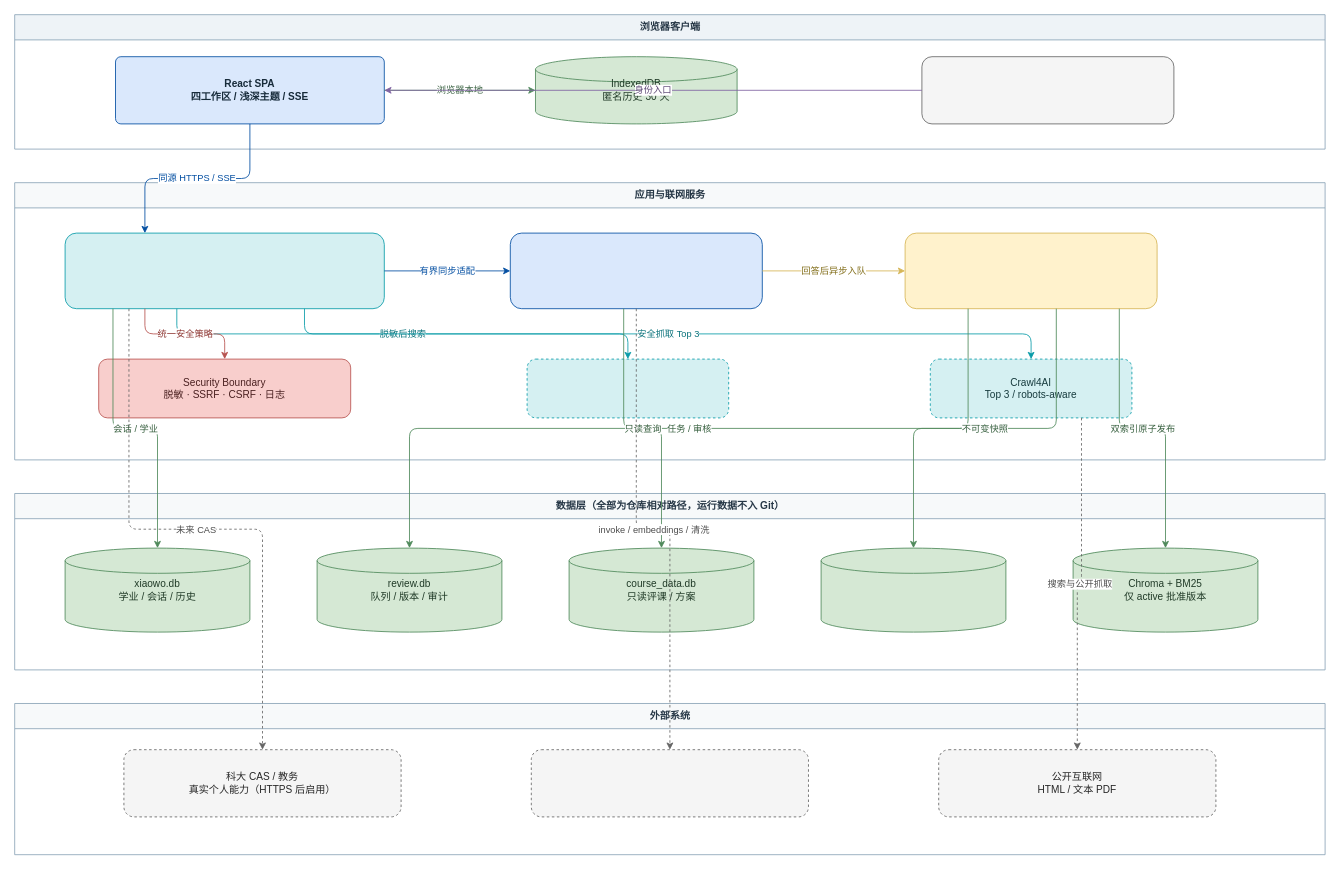
Some shapes in this 1340 by 869 pixel diagram are drawn without their labels. The shapes that lost their labels are listed below. From the top down, each one's centre as x and y in pixels, then its label:
At [1047,90]: "用户 / 审核者 anonymous · demo · CAS".
At [224,270]: "FastAPI 模块化单体 Auth · Chat/SSE · Academic · Evidence · Review".
At [635,270]: "现有小蜗核心 LangGraph QA · 28 工具 ServiceContainer".
At [1030,270]: "Ingestion Worker 清洗 · 去重 · 版本 · 发布".
At [627,388]: "SearXNG 4 秒 JSON 搜索".
At [913,589]: "原始快照 SHA-256 不可变文件".
At [669,783]: "科大 LLM 平台 回答 / Embedding / 清洗".
